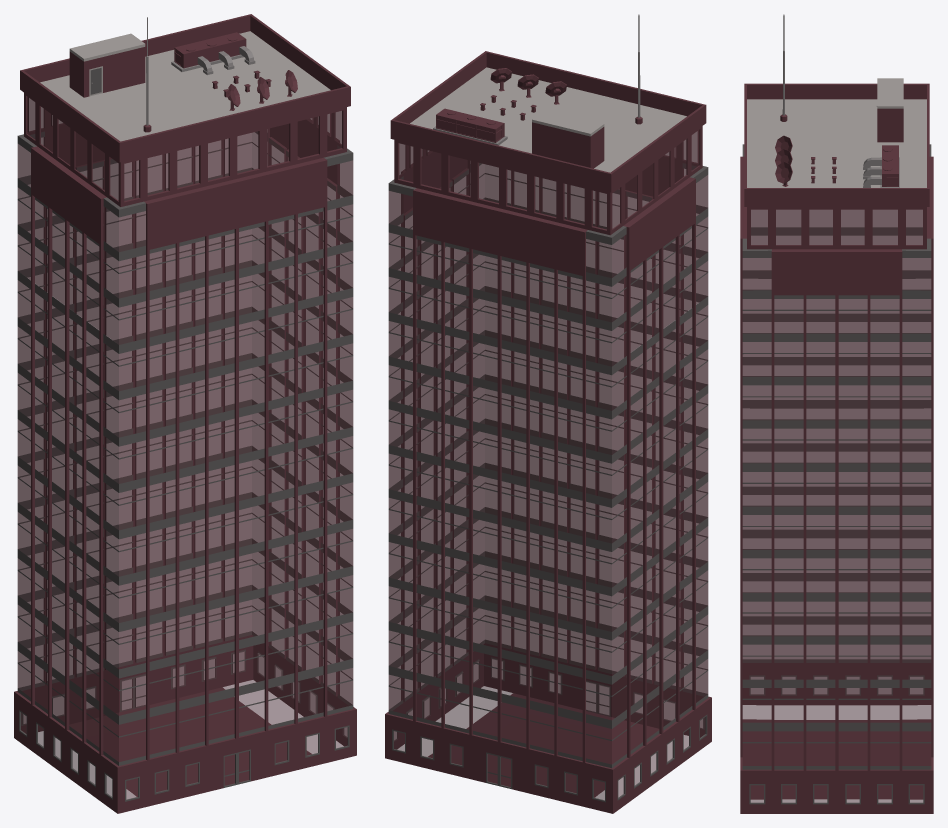
Rendered from building-office-tall.fbx.
3 renders of one model, left to right at view 1: azimuth 30°, elevation 25°; view 2: azimuth 150°, elevation 25°; view 3: azimuth 270°, elevation 25°, orthographic. The views are drawn at different scales.
Visible parts, largest first — view 1: building-office-tall; view 2: building-office-tall; view 3: building-office-tall.
Boxes of the visible parts, box(x1,y1,x2,y2) form: building-office-tall: box(14, 14, 356, 813); building-office-tall: box(385, 14, 711, 813); building-office-tall: box(740, 14, 933, 813).
Bounding box in the file's own units: 19.43 × 59.58 × 14.6.
